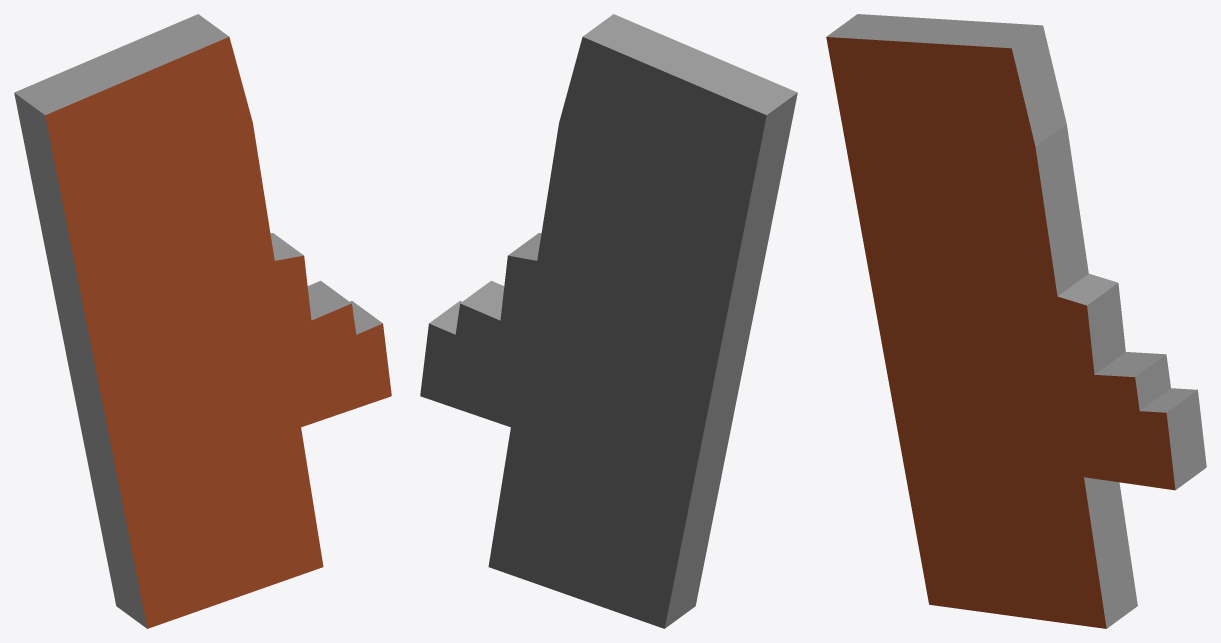
Rendered from construction_0727_assumed_A_Casa_h6m.obj.
3 views of the same model, side by side, from view 1: azimuth 30°, elevation 25°; view 2: azimuth 150°, elevation 25°; view 3: azimuth 330°, elevation 25° (orthographic).
Visible parts, largest first — view 1: construction_0727_assumed_A_Casa; view 2: construction_0727_assumed_A_Casa; view 3: construction_0727_assumed_A_Casa.
Part boxes in pixels (bbox=[...]): construction_0727_assumed_A_Casa: bbox=[14, 14, 391, 628]; construction_0727_assumed_A_Casa: bbox=[420, 14, 797, 628]; construction_0727_assumed_A_Casa: bbox=[826, 14, 1206, 628].
Size of the model in its own units: 38.62 by 60.91 by 6.
